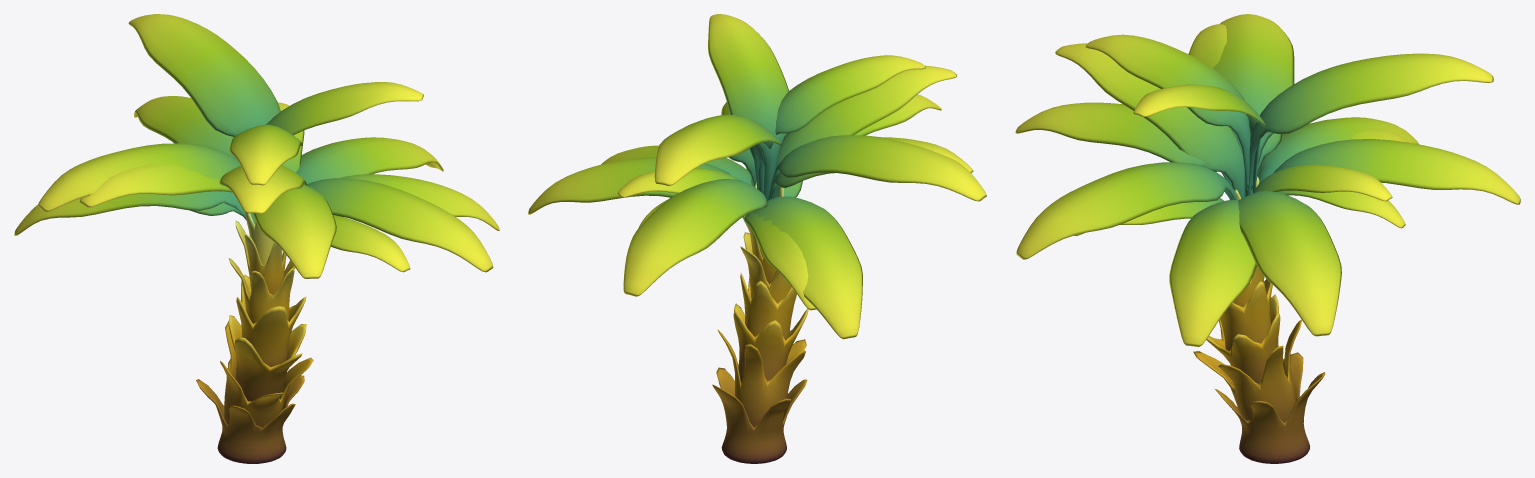
Rendered from Banana-Tree.fbx.
The picture shows the model from 3 angles, left to right: view 1: azimuth 30°, elevation 25°; view 2: azimuth 150°, elevation 25°; view 3: azimuth 270°, elevation 25°; orthographic projection. The views are drawn at different scales.
Parts seen in each view (by area): view 1: Leaf, Cylinder.007, Cylinder.001, Cylinder.003, Cylinder, Cylinder.004, Cylinder.005, Cylinder.006; view 2: Leaf, Cylinder.007, Cylinder, Cylinder.001, Cylinder.003, Cylinder.004; view 3: Leaf, Cylinder.007, Cylinder, Cylinder.001, Cylinder.003.
Part boxes in pixels (left/top/right/bottom): Leaf: left=14, top=14, right=499, bottom=278; Cylinder.007: left=196, top=359, right=304, bottom=463; Cylinder.001: left=228, top=315, right=306, bottom=401; Cylinder.003: left=236, top=274, right=306, bottom=367; Cylinder: left=220, top=321, right=313, bottom=427; Cylinder.004: left=228, top=258, right=295, bottom=323; Cylinder.005: left=235, top=220, right=286, bottom=295; Cylinder.006: left=245, top=212, right=273, bottom=266; Leaf: left=528, top=14, right=986, bottom=339; Cylinder.007: left=712, top=367, right=807, bottom=463; Cylinder: left=717, top=329, right=806, bottom=427; Cylinder.001: left=733, top=303, right=808, bottom=383; Cylinder.003: left=740, top=273, right=796, bottom=340; Cylinder.004: left=740, top=232, right=791, bottom=303; Leaf: left=1015, top=14, right=1520, bottom=346; Cylinder.007: left=1215, top=352, right=1325, bottom=463; Cylinder: left=1193, top=319, right=1301, bottom=422; Cylinder.001: left=1206, top=294, right=1280, bottom=384; Cylinder.003: left=1220, top=279, right=1272, bottom=351.
Bounding box in the file's own units: 534 × 452 × 521.
Materials: 1 (1 with a texture image).
